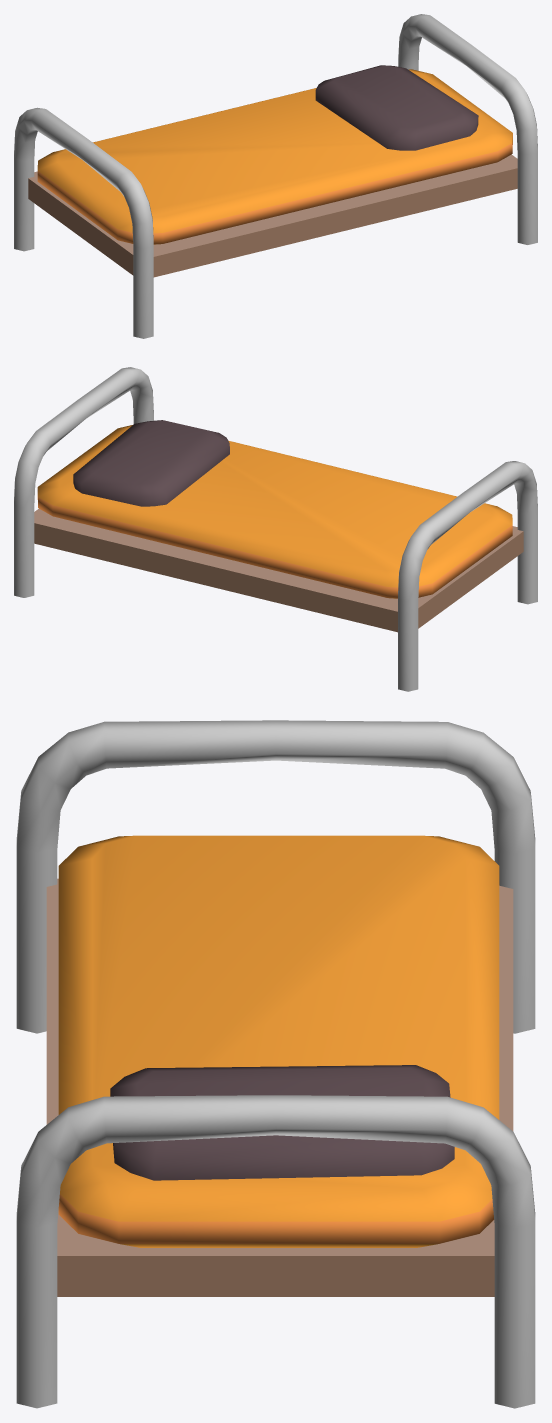
The model's file is prisoner_bed.fbx.
3 renders of one model, top to bottom at view 1: azimuth 30°, elevation 25°; view 2: azimuth 150°, elevation 25°; view 3: azimuth 270°, elevation 25°, orthographic. The views are drawn at different scales.
Parts seen in each view (by area): view 1: prisoner_mattress01, prisoner_bed; view 2: prisoner_mattress01, prisoner_bed; view 3: prisoner_mattress01, prisoner_bed.
Boxes of the visible parts, bbox=[...] form: prisoner_mattress01: bbox=[37, 65, 512, 244]; prisoner_bed: bbox=[14, 14, 537, 338]; prisoner_mattress01: bbox=[37, 420, 512, 598]; prisoner_bed: bbox=[14, 367, 537, 691]; prisoner_mattress01: bbox=[58, 835, 499, 1247]; prisoner_bed: bbox=[16, 720, 535, 1408].
Bounding box in the file's own units: 1.98 × 0.6994 × 1.1.
